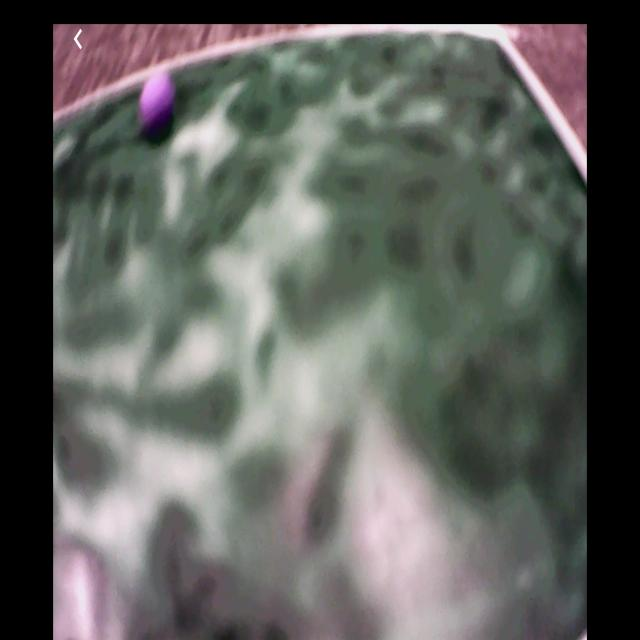ball: (141, 75, 176, 126)
